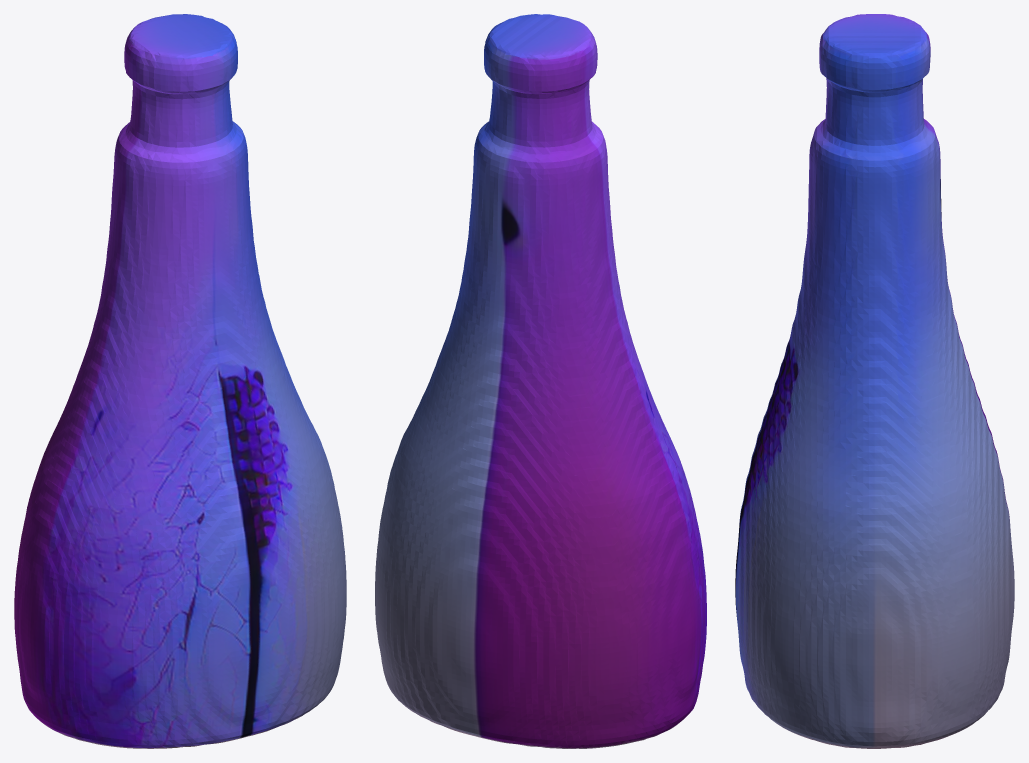
Rendered from bottle1.glb.
3 renders of one model, left to right at view 1: azimuth 30°, elevation 25°; view 2: azimuth 150°, elevation 25°; view 3: azimuth 270°, elevation 25°, orthographic.
Visible parts, largest first — view 1: tmpsknuxcjr.ply; view 2: tmpsknuxcjr.ply; view 3: tmpsknuxcjr.ply.
Boxes of the visible parts, <box> form: tmpsknuxcjr.ply: <box>14,14,346,748</box>; tmpsknuxcjr.ply: <box>375,14,706,748</box>; tmpsknuxcjr.ply: <box>735,14,1014,748</box>.
Size of the model in its own units: 0.9294 by 1.96 by 0.7589.
Materials: 1 (1 with a texture image).
